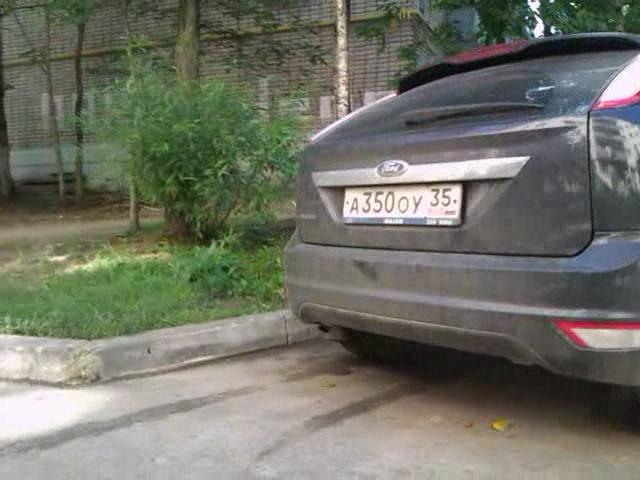license-plateSW: (344, 185, 464, 221)
